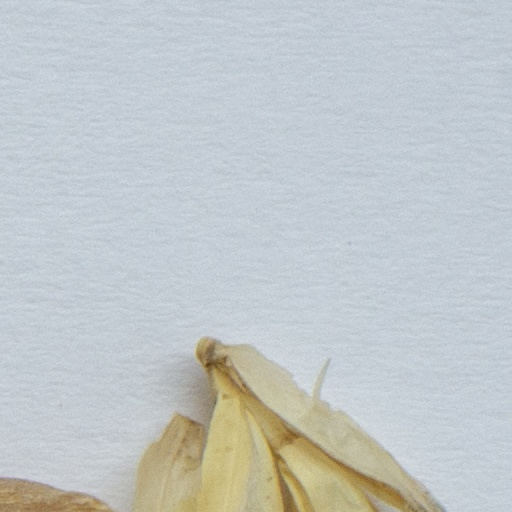Peel-poly: (131, 340, 454, 511)
